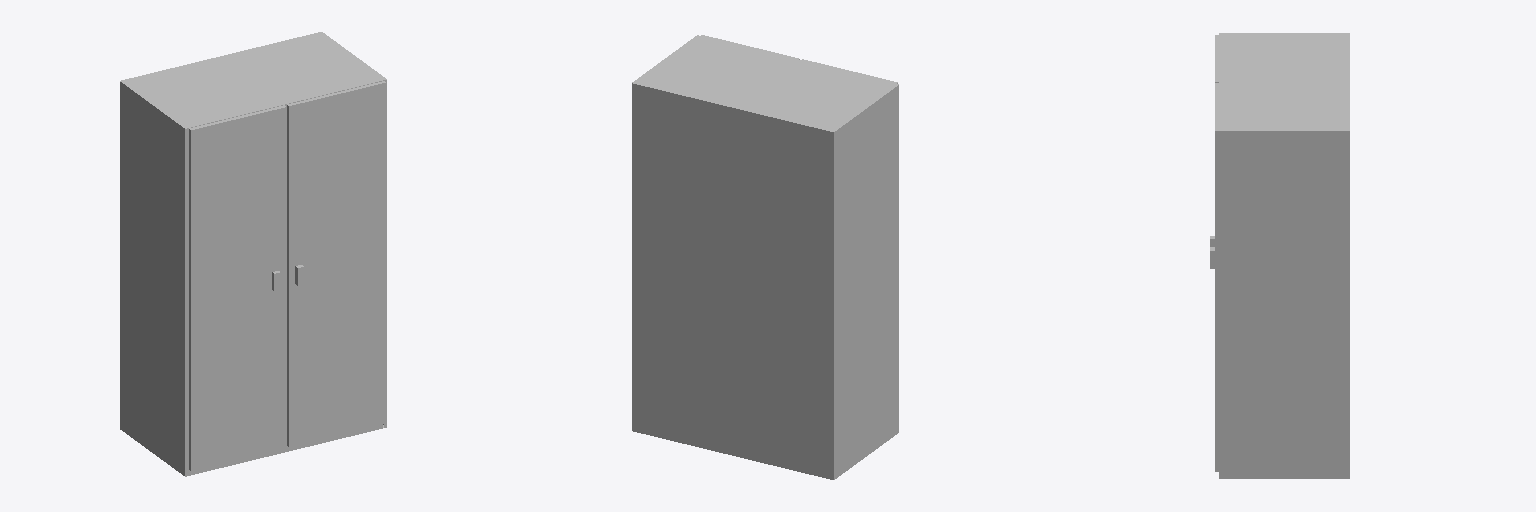
Rendered from Lemari.obj.
3 renders of one model, left to right at view 1: azimuth 30°, elevation 25°; view 2: azimuth 150°, elevation 25°; view 3: azimuth 270°, elevation 25°, orthographic.
Parts seen in each view (by area): view 1: Layer0_001_Mesh.009, Cube.005_Cube.003, Cube.004_Cube.002, Doors_001_Mesh.010; view 2: Layer0_001_Mesh.009; view 3: Layer0_001_Mesh.009, Cube.005_Cube.003.
Boxes of the visible parts, x1,y1,x2,y2 form: Layer0_001_Mesh.009: [120, 32, 386, 476]; Cube.005_Cube.003: [287, 81, 386, 446]; Cube.004_Cube.002: [189, 105, 286, 470]; Doors_001_Mesh.010: [188, 425, 382, 475]; Layer0_001_Mesh.009: [632, 35, 898, 479]; Layer0_001_Mesh.009: [1219, 33, 1349, 478]; Cube.005_Cube.003: [1215, 83, 1218, 471].
Size of the model in its own units: 1.19 by 1.95 by 0.7152.